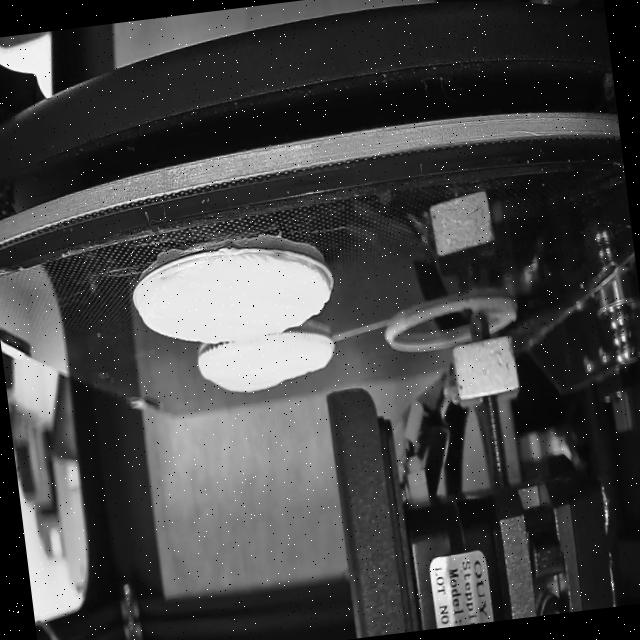over_extrusion: (306, 254, 334, 303), (487, 306, 518, 324)
